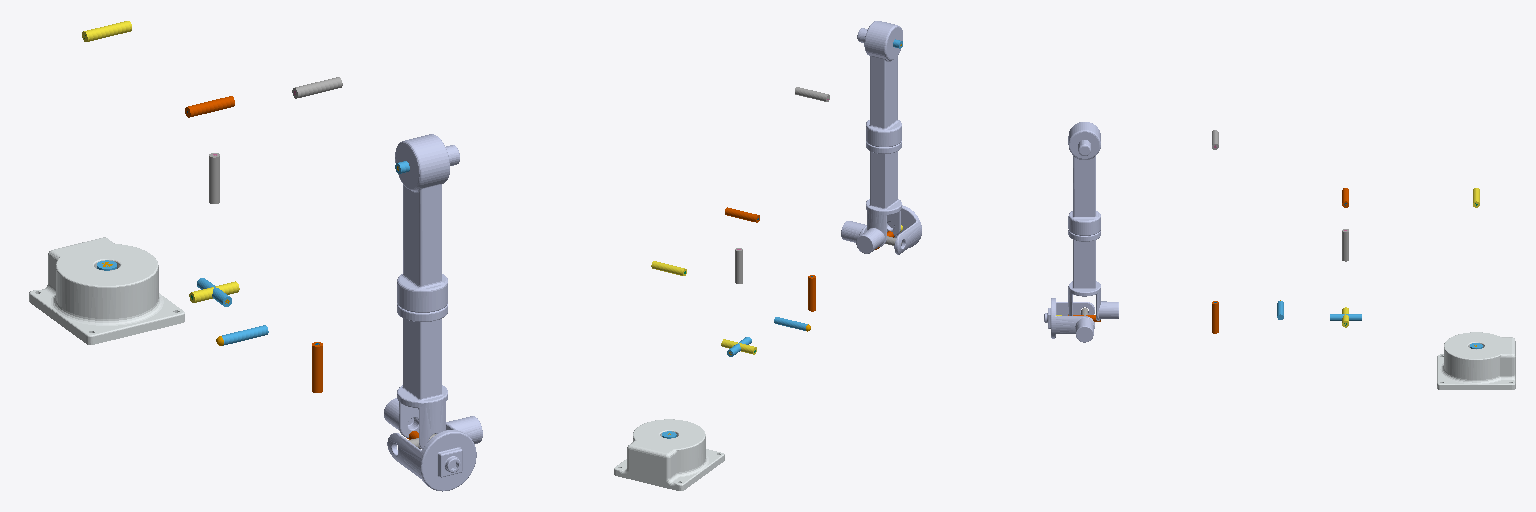
--- What the picture shows (computed from the rendered views, not written in the file) ---
3 views of the same robot in one strip: view 1: azimuth 30°, elevation 25°; view 2: azimuth 150°, elevation 25°; view 3: azimuth 270°, elevation 25° (orthographic).
Model twelvedof_new with 44 links and 43 joints (12 continuous, 31 fixed), rooted at world, posed every joint at zero.
Visible links, largest first — view 1: base_link, link9, link10, link12, motor2, motor3, motor8, motor4, motor7; view 2: base_link, link9, link10, link12; view 3: base_link, link9, link10, link12.
Boxes of the visible links, x1,y1,x2,y2 form: base_link: [29, 237, 184, 344]; link9: [395, 134, 459, 312]; link10: [384, 304, 447, 449]; link12: [387, 416, 482, 491]; motor2: [82, 21, 131, 41]; motor3: [185, 96, 234, 117]; motor8: [292, 77, 342, 98]; motor4: [209, 153, 219, 203]; motor7: [312, 342, 322, 392]; base_link: [614, 419, 724, 490]; link9: [857, 21, 902, 146]; link10: [856, 141, 901, 253]; link12: [841, 205, 921, 254]; base_link: [1437, 332, 1515, 389]; link9: [1068, 122, 1100, 235]; link10: [1068, 230, 1118, 320]; link12: [1044, 298, 1094, 342].
Size in the robot's own frame: 0.245 by 1.44 by 0.85 metres.
4 mesh visuals loaded from 13 distinct referenced files (4 binary STL); not drawn: 9 (reference not matched to a file when rendering).

The robot description file, URDF, robot "twelvedof_new":
<?xml version="1.0" encoding="utf-8"?>
<!-- This URDF was automatically created by SolidWorks to URDF Exporter! Originally created by Stephen Brawner ([email redacted]) 
     Commit Version: 1.6.0-1-g15f4949  Build Version: 1.6.7594.29634
     For more information, please see http://wiki.ros.org/sw_urdf_exporter -->
<robot name="twelvedof_new">
  
  <link name="world"/>
    
  <joint name="worldjoint" type="fixed">
    <origin xyz="0 0 0" rpy="0 0 1.5708" />
    <parent link="world" />
    <child link="base_link" />
  </joint>

<!-- FIRST HALF OF ARM -->
  
  <link name="base_link">
    <inertial>
      <origin xyz="0.0082132 0.045573 -4.3895E-09" rpy="0 0 0" />
      <mass value="10" />
      <inertia
        ixx="0.0143561878212777"
        ixy="-0.000435034350132057"
        ixz="1.30220493170942E-09"
        iyy="0.0253036434758205"
        iyz="2.05181848298011E-10"
        izz="0.017604652680288" />
    </inertial>
    <visual>
      <origin xyz="0 0 0" rpy="0 0 0" />
      <geometry>
        <mesh filename="package://project/meshes/base_link.STL" />
      </geometry>
      <material name="">
        <color rgba="0.898039215686275 0.92156862745098 0.929411764705882 1" />
      </material>
    </visual>
    <!--<collision>
      <origin xyz="0 0 0" rpy="0 0 0" />
      <geometry>
        <mesh filename="package://project/meshes/base_link.STL" />
      </geometry>
    </collision>-->
  </link>
  
  <joint name="theta1" type="continuous">
    <origin xyz="0 0 0.05" rpy="1.5707963267949 0 3.14159265358979" />
    <parent link="base_link" />
    <child link="link1" />
    <axis xyz="0 1 0" />
    <dynamics damping="5.0"/>
  </joint>  
  
  <link name="link1">
    <inertial>
      <origin xyz="-3.4183E-08 0.34451 0.010144" rpy="0 0 0" />
      <mass value="0.1" />
      <inertia
        ixx="0.280533282193697"
        ixy="2.88502865128486E-08"
        ixz="5.12746353903742E-09"
        iyy="0.0214809674041822"
        iyz="-0.0162186945928484"
        izz="0.281062502247758" />
    </inertial>
    <visual>
      <origin xyz="0 0 0" rpy="0 0 0" />
      <geometry>
        <mesh filename="package://project/meshes/link1.STL" />
      </geometry>
      <material name="">
        <color rgba="0.792156862745098 0.819607843137255 0.933333333333333 1" />
      </material>
    </visual>
    <!--<collision>
      <origin xyz="0 0 0" rpy="0 0 0" />
      <geometry>
        <mesh filename="package://project/meshes/link1.STL" />
      </geometry>
    </collision>-->
  </link>
  
  <joint name="theta2" type="continuous">
    <origin xyz="0 0.55 0" rpy="-3.14159265358979 -1.5707963267949 0" />
    <parent link="link1" />
    <child link="link2" />
    <axis xyz="1 0 0" />
    <dynamics damping="5.0"/>
  </joint>
  
  <link name="link2">
    <inertial>
      <origin xyz="-0.099044 -1.7117E-08 0.19438" rpy="0 0 0" />
      <mass value="0.1" />
      <inertia
        ixx="0.128935545829528"
        ixy="-3.59276704863955E-09"
        ixz="0.00824538218148109"
        iyy="0.12959303076696"
        iyz="3.7662632051646E-08"
        izz="0.00894193356578435" />
    </inertial>
    <visual>
      <origin xyz="0 0 0" rpy="0 0 0" />
      <geometry>
        <mesh filename="package://project/meshes/link2.STL" />
      </geometry>
      <material name="">
        <color rgba="0.792156862745098 0.819607843137255 0.933333333333333 1" />
      </material>
    </visual>
    <!--<collision>
      <origin xyz="0 0 0" rpy="0 0 0" />
      <geometry>
        <mesh filename="package://project/meshes/link2.STL" />
      </geometry>
    </collision>-->
  </link>
    
  <joint name="theta3" type="continuous">
    <origin xyz="0 0 0.4" rpy="0 0 3.14159265358979" />
    <parent link="link2" />
    <child link="link3" />
    <axis xyz="1 0 0" />
    <dynamics damping="1.0"/>
  </joint>
  
  
  <link name="link3">
    <inertial>
      <origin xyz="0.011754 -0.069273 -1.9906E-07" rpy="0 0 0" />
      <mass value="0.1" />
      <inertia
        ixx="0.0152262508313679"
        ixy="-0.000252854197484628"
        ixz="-7.59437820571953E-09"
        iyy="0.00238432715240219"
        iyz="-6.63655998102174E-09"
        izz="0.0150750345051429" />
    </inertial>
    <visual>
      <origin xyz="0 0 0" rpy="0 0 0" />
      <geometry>
        <mesh filename="package://project/meshes/link3.STL" />
      </geometry>
      <material name="">
        <color rgba="0.792156862745098 0.819607843137255 0.933333333333333 1" />
      </material>
    </visual>
    <!--<collision>
      <origin xyz="0 0 0" rpy="0 0 0" />
      <geometry>
        <mesh filename="package://project/meshes/link3.STL" />
      </geometry>
    </collision>-->
  </link>
  
  <joint name="theta4" type="continuous">
    <origin xyz="0.00999999999999997 -0.156 0" rpy="3.14159265358979 -3.14159265358979 3.14159265358979" />
    <parent link="link3" />
    <child link="link4" />
    <axis xyz="0 1 0" />
    <dynamics damping="0.2"/>
  </joint>
  
  <link name="link4">
    <inertial>
      <origin xyz="-2.423E-05 -0.13288 0.010643" rpy="0 3.14159265358979 0" />
      <mass value="0.1" />
      <inertia
        ixx="0.00652454443000916"
        ixy="-2.63113923987127E-06"
        ixz="1.4312330638641E-06"
        iyy="0.00162842387868455"
        iyz="0.00113452921322352"
        izz="0.00559173664508866" />
    </inertial>
    <visual>
      <origin xyz="0 0 0" rpy="0 3.14159265358979 0" />
      <geometry>
        <mesh filename="package://project/meshes/link4.STL" />
      </geometry>
      <material name="">
        <color rgba="0.792156862745098 0.819607843137255 0.933333333333333 1" />
      </material>
    </visual>
    <!--<collision>
      <origin xyz="0 0 0" rpy="0 3.14159265358979 0" />
      <geometry>
        <mesh filename="package://project/meshes/link4.STL" />
      </geometry>
    </collision>-->
  </link>
  
  <joint name="theta5" type="continuous">
    <origin xyz="-0.000158056929492672 -0.244 0" rpy="-1.5707963267949 0 3.14159265358979" />
    <parent link="link4" />
    <child link="link5" />
    <axis xyz="0 1 0" />
    <dynamics damping="0.2"/>
  </joint>
  
  <link name="link5">
    <inertial>
      <origin xyz="-8.5927E-06 2.9948E-09 0" rpy="0 0 0" />
      <mass value="0.1" />
      <inertia
        ixx="0.000268508912730322"
        ixy="-1.05404001827445E-14"
        ixz="2.8134907313249E-12"
        iyy="0.000445501225998283"
        iyz="-4.09234992736264E-12"
        izz="0.000491869576064115" />
    </inertial>
    <visual>
      <origin xyz="0 0 0" rpy="0 0 0" />
      <geometry>
        <mesh filename="package://project/meshes/link5.STL" />
      </geometry>
      <material name="">
        <color rgba="0.792156862745098 0.819607843137255 0.933333333333333 1" />
      </material>
    </visual>
    <!--<collision>
      <origin xyz="0 0 0" rpy="0 0 0" />
      <geometry>
        <mesh filename="package://project/meshes/link5.STL" />
      </geometry>
    </collision>-->
  </link>

  <joint name="theta6" type="continuous">
    <origin xyz="0 0 0" rpy="3.1416 -1.5708 0" />
    <parent link="link5" />
    <child link="link6" />
    <axis xyz="0 0 1" />
    <dynamics damping="0.2"/>
  </joint>

  <link name="link6">
    <inertial>
      <origin xyz="0.0051917 0.2733 -0.0049985" rpy="0 0 0" />
      <mass value="0.1" />
      <inertia
        ixx="0.0522030439082721"
        ixy="-0.00158209475866237"
        ixz="-6.38836647121218E-05"
        iyy="0.00450482103345596"
        iyz="-0.00340305922390723"
        izz="0.0501774844868825" />
    </inertial>
    <visual>
      <origin xyz="0 0 0" rpy="0 0 0" />
      <geometry>
        <mesh filename="package://project/meshes/link6.STL" />
      </geometry>
      <material name="">
        <color rgba="0.792156862745098 0.819607843137255 0.933333333333333 1" />
      </material>
    </visual>
    <!--<collision>
      <origin xyz="0 0 0" rpy="0 0 0" />
      <geometry>
        <mesh filename="package://project/meshes/link6.STL" />
      </geometry>
    </collision>-->
  </link>

  <joint name="final1" type="fixed">
    <parent link="link6"/>
    <child  link="tip_elbow"/>
    <origin xyz="0 0.2 0.1" rpy="1.5708 0 -1.5708"/>
  </joint>

  <link name="tip_elbow"/>
  
 
 <!-- SECOND HALF OF ARM -->

  <joint name="theta7" type="continuous">
    <origin xyz="0 0.4 0" rpy="1.5707963267949 -1.5707963267949 0" />
    <parent link="link6" />
    <child link="link7" />
    <axis xyz="0 1 0" />
    <dynamics damping="0.2"/>
  </joint>

  <link name="link7">
    <inertial>
      <origin xyz="0.0044934 0.36072 6.8848E-09" rpy="0 0 0" />
      <mass value="0.1" />
      <inertia
        ixx="0.120977117963601"
        ixy="-0.00358173551662174"
        ixz="-1.92392938248504E-09"
        iyy="0.00427523422420143"
        iyz="-2.98092198286552E-09"
        izz="0.120860768990603" />
    </inertial>
    <visual>
      <origin xyz="0 0 0" rpy="0 0 0" />
      <geometry>
        <mesh filename="package://project/meshes/link7.STL" />
      </geometry>
      <material name="">
        <color rgba="0.792156862745098 0.819607843137255 0.933333333333333 1" />
      </material>
    </visual>
    <!--<collision>
      <origin xyz="0 0 0" rpy="0 0 0" />
      <geometry>
        <mesh filename="package://project/meshes/link7.STL" />
      </geometry>
    </collision>-->
  </link>

  <joint name="theta8" type="continuous">
    <origin xyz="0 0.6 0" rpy="0 0 3.14159265358979" />
    <parent link="link7" />
    <child link="link8" />
    <axis xyz="1 0 0" />
    <dynamics damping="5.0"/>
  </joint>
  
  <link name="link8">
    <inertial>
      <origin xyz="0.087875 -1.7703E-08 -0.22474" rpy="0 0 0" />
      <mass value="0.1" />
      <inertia
        ixx="0.0796551330078775"
        ixy="5.6504092407821E-09"
        ixz="0.00748044758508915"
        iyy="0.0813191685089296"
        iyz="5.4244447681561E-09"
        izz="0.00490675543598511" />
    </inertial>
    <visual>
      <origin xyz="0 0 0" rpy="0 0 0" />
      <geometry>
        <mesh filename="package://project/meshes/link8.STL" />
      </geometry>
      <material name="">
        <color rgba="0.792156862745098 0.819607843137255 0.933333333333333 1" />
      </material>
    </visual>
    <!--<collision>
      <origin xyz="0 0 0" rpy="0 0 0" />
      <geometry>
        <mesh filename="package://project/meshes/link8.STL" />
      </geometry>
    </collision>-->
  </link>

  <joint name="theta9" type="continuous">
    <origin xyz="0 0 -0.4" rpy="-3.14159263868864 0 0" />
    <parent link="link8" />
    <child link="link9" />
    <axis xyz="1 0 0" />
    <dynamics damping="1.0"/>
  </joint>


  <link name="link9">
    <inertial>
      <origin xyz="0.0066483 -0.12042 -2.4888E-07" rpy="0 0 0" />
      <mass value="0.1" />
      <inertia
        ixx="0.0114050795265076"
        ixy="-0.0002365697800322"
        ixz="-3.38034585685076E-09"
        iyy="0.00148310827639032"
        iyz="-3.64333100183754E-09"
        izz="0.0113333864819022" />
    </inertial>
    <visual>
      <origin xyz="0 0 0" rpy="0 0 0" />
      <geometry>
        <mesh filename="package://project/meshes/link9.STL" />
      </geometry>
      <material name="">
        <color rgba="0.792156862745098 0.819607843137255 0.933333333333333 1" />
      </material>
    </visual>
    <!--<collision>
      <origin xyz="0 0 0" rpy="0 0 0" />
      <geometry>
        <mesh filename="package://project/meshes/link9.STL" />
      </geometry>
    </collision>-->
  </link>

  <joint name="theta10" type="continuous">
    <origin xyz="0.005 -0.26 0" rpy="3.14159265358979 0 3.14159265358979" />
    <parent link="link9" />
    <child link="link10" />
    <axis xyz="0 1 0" />
    <dynamics damping="0.2"/>
  </joint>

  <link name="link10">
    <inertial>
      <origin xyz="-2.3404E-05 -0.18747 0.0085476" rpy="0 0 0" />
      <mass value="0.1" />
      <inertia
        ixx="0.00624074124214675"
        ixy="-2.56275777992662E-06"
        ixz="1.42191262724024E-06"
        iyy="0.00153442214771151"
        iyz="0.00110450946529512"
        izz="0.00531178670708837" />
    </inertial>
    <visual>
      <origin xyz="0 0 0" rpy="0 0 0" />
      <geometry>
        <mesh filename="package://project/meshes/link10.STL" />
      </geometry>
      <material name="">
        <color rgba="0.792156862745098 0.819607843137255 0.933333333333333 1" />
      </material>
    </visual>
    <!--<collision>
      <origin xyz="0 0 0" rpy="0 0 0" />
      <geometry>
        <mesh filename="package://project/meshes/link10.STL" />
      </geometry>
    </collision>-->
  </link>

  <joint name="theta11" type="continuous">
    <origin xyz="-0.000158056929492617 -0.34 0" rpy="-1.5707963267949 0 3.14159265358979" />
    <parent link="link10" />
    <child link="link11" />
    <axis xyz="0 1 0" />
    <dynamics damping="0.2"/>
  </joint>

  <link name="link11">
    <inertial>
      <origin xyz="-2.0264E-05 9.9734E-09 -9.1441E-08" rpy="0 0 0" />
      <mass value="0.1" />
      <inertia
        ixx="0.000268508912730321"
        ixy="1.05404015773174E-14"
        ixz="-2.81349071030043E-12"
        iyy="0.000445501225998283"
        iyz="-4.09234984570201E-12"
        izz="0.000491869576064114" />
    </inertial>
    <visual>
      <origin xyz="0 0 0" rpy="0 0 0" />
      <geometry>
        <mesh filename="package://project/meshes/link11.STL" />
      </geometry>
      <material name="">
        <color rgba="0.792156862745098 0.819607843137255 0.933333333333333 1" />
      </material>
    </visual>
    <!--<collision>
      <origin xyz="0 0 0" rpy="0 0 0" />
      <geometry>
        <mesh filename="package://project/meshes/link11.STL" />
      </geometry>
    </collision>-->
  </link>

  <joint name="theta12" type="continuous">
    <origin xyz="0 0 0" rpy="0 1.5707963267949 0" />
    <parent link="link11" />
    <child link="link12" />
    <axis xyz="0 0 1" />
    <dynamics damping="0.2"/>
  </joint>

  <link name="link12">
    <inertial>
      <origin xyz="-2.9191E-07 0.031037 0.029216" rpy="0 0 0" />
      <mass value="0.1" />
      <inertia
        ixx="0.00449686744365017"
        ixy="-5.41238637157819E-09"
        ixz="3.66408930129254E-09"
        iyy="0.00184883163621398"
        iyz="0.00108407821056809"
        izz="0.00322066196867968" />
    </inertial>
    <visual>
      <origin xyz="0 0 0" rpy="0 0 0" />
      <geometry>
        <mesh filename="package://project/meshes/link12.STL" />
      </geometry>
      <material name="">
        <color rgba="0.792156862745098 0.819607843137255 0.933333333333333 1" />
      </material>
    </visual>
    <!--<collision>
      <origin xyz="0 0 0" rpy="0 0 0" />
      <geometry>
        <mesh filename="package://project/meshes/link12.STL" />
      </geometry>
    </collision>-->
  </link>

  <joint name="final2" type="fixed">
    <parent link="link12"/>
    <child  link="tip_full"/>
    <origin xyz="0 0.1 0" rpy="0 -1.5708 0"/>
  </joint>

  <link name="tip_full"/>













  <!-- *************************************************** -->
  <!-- ****** Building Blocks (Visual AND Inertial) ****** -->
  <!-- *************************************************** -->

  <!-- *** base_link-Fixed: Mount 1, Motor 1 *** -->

  <joint name="attach-mount1" type="fixed">
    <parent link="base_link"/>
    <child  link="mount1"/>
  </joint>
  <link name="mount1">
    <visual>
      <origin xyz="0 0 0.05" rpy="0 0 0"/>
      <geometry>
  <cylinder length="0.1" radius="0.011"/>
      </geometry>
      <material name="black"/>
    </visual>
    <collision>
      <origin xyz="0 0 0.05" rpy="0 0 0"/>
      <geometry>
  <cylinder length="0.1" radius="0.011"/>
      </geometry>
    </collision>
    <inertial>
      <origin xyz="0 0 0.05" rpy="0 0 0"/>
      <mass value="0.2"/>
      <inertia
        ixx="0.000687" ixy="0.0" ixz="0.0"
        iyy="0.000687" iyz="0.0"
        izz="1.000040"/>
    </inertial>
  </link>

  <joint name="attach-motor1" type="fixed">
    <parent link="base_link"/>
    <child  link="motor1"/>
  </joint>
  <link name="motor1">
    <visual>
      <origin xyz="0 0 0.05" rpy="0 0 0"/>
      <geometry>
  <cylinder length="0.1" radius="0.02"/>
      </geometry>
      <material name="gray"/>
    </visual>
    <collision>
      <origin xyz="0 0 0.05" rpy="0 0 0"/>
      <geometry>
  <cylinder length="0.1" radius="0.02"/>
      </geometry>
    </collision>
    <inertial>
      <origin xyz="0 0 0.05" rpy="0 0 0"/>
      <mass value="0.4"/>
      <inertia
        ixx="0.500990" ixy="0.0" ixz="0.0"
        iyy="0.000990" iyz="0.0"
        izz="0.000313"/>
    </inertial>
  </link>


  <!-- *** Motor 1 Output: Mount 2, Motor 2 *** -->

  <joint name="attach-mount2" type="fixed">
    <parent link="link1"/>
    <child  link="mount2"/>
  </joint>
  <link name="mount2">
    <visual>
      <origin xyz="0 0.55 0" rpy="0 0 -1.5708"/>
      <geometry>
  <cylinder length="0.1" radius="0.005"/>
      </geometry>
      <material name="black"/>
    </visual>
    <collision>
      <origin xyz="0 0.55 0" rpy="0 0 -1.5708"/>
      <geometry>
  <cylinder length="0.1" radius="0.005"/>
      </geometry>
    </collision>
    <inertial>
      <origin xyz="0 0.55 0" rpy="0 0 -1.5708"/>
      <mass value="0.2"/>
      <inertia
        ixx="0.000687" ixy="0.0" ixz="0.0"
        iyy="0.000687" iyz="0.0"
        izz="1.000040"/>
    </inertial>
  </link>

  <joint name="attach-motor2" type="fixed">
    <parent link="link1"/>
    <child  link="motor2"/>
  </joint>
  <link name="motor2">
    <visual>
      <origin xyz="0 0.55 0" rpy="0 0 -1.5708"/>
      <geometry>
  <cylinder length="0.1" radius="0.011"/>
      </geometry>
      <material name="gray"/>
    </visual>
    <collision>
      <origin xyz="0 0.55 0" rpy="0 0 -1.5708"/>
      <geometry>
  <cylinder length="0.1" radius="0.011"/>
      </geometry>
    </collision>
    <inertial>
      <origin xyz="0 0.55 0" rpy="0 0 -1.5708"/>
      <mass value="0.4"/>
      <inertia
        ixx="0.500990" ixy="0.0" ixz="0.0"
        iyy="0.000990" iyz="0.0"
        izz="0.000313"/>
    </inertial>
  </link>


  <!-- *** Motor 2 Output: Mount 3, Motor 3 *** -->

  <joint name="attach-mount3" type="fixed">
    <parent link="link2"/>
    <child  link="mount3"/>
  </joint>
  <link name="mount3">
    <visual>
      <origin xyz="0 0 0.4" rpy="0 -1.5708 0"/>
      <geometry>
  <cylinder length="0.1" radius="0.005"/>
      </geometry>
      <material name="black"/>
    </visual>
    <collision>
      <origin xyz="0 0 0.4" rpy="0 -1.5708 0"/>
      <geometry>
  <cylinder length="0.1" radius="0.005"/>
      </geometry>
    </collision>
    <inertial>
      <origin xyz="0 0 0.4" rpy="0 -1.5708 0"/>
      <mass value="0.2"/>
      <inertia
        ixx="0.000687" ixy="0.0" ixz="0.0"
        iyy="0.000687" iyz="0.0"
        izz="1.000040"/>
    </inertial>
  </link>

  <joint name="attach-motor3" type="fixed">
    <parent link="link2"/>
    <child  link="motor3"/>
  </joint>
  <link name="motor3">
    <visual>
      <origin xyz="0 0 0.4" rpy="0 -1.5708 0"/>
      <geometry>
  <cylinder length="0.1" radius="0.011"/>
      </geometry>
      <material name="gray"/>
    </visual>
    <collision>
      <origin xyz="0 0 0.4" rpy="0 -1.5708 0"/>
      <geometry>
  <cylinder length="0.1" radius="0.011"/>
      </geometry>
    </collision>
    <inertial>
      <origin xyz="0 0 0.4" rpy="0 -1.5708 0"/>
      <mass value="0.4"/>
      <inertia
        ixx="0.500990" ixy="0.0" ixz="0.0"
        iyy="0.000990" iyz="0.0"
        izz="0.000313"/>
    </inertial>
  </link>


  <!-- *** Motor 3 Output: Mount 4, Motor 4 *** -->

  <joint name="attach-mount4" type="fixed">
    <parent link="link3"/>
    <child  link="mount4"/>
  </joint>
  <link name="mount4">
    <visual>
      <origin xyz="0.00999999999999997 -0.156 0" rpy="-1.5708 0 0"/>
      <geometry>
  <cylinder length="0.1" radius="0.005"/>
      </geometry>
      <material name="black"/>
    </visual>
    <collision>
      <origin xyz="0.00999999999999997 -0.156 0" rpy="-1.5708 0 0"/>
      <geometry>
  <cylinder length="0.1" radius="0.005"/>
      </geometry>
    </collision>
    <inertial>
      <origin xyz="0.00999999999999997 -0.156 0" rpy="-1.5708 0 0"/>
      <mass value="0.2"/>
      <inertia
        ixx="0.000687" ixy="0.0" ixz="0.0"
        iyy="0.000687" iyz="0.0"
        izz="1.000040"/>
    </inertial>
  </link>

  <joint name="attach-motor4" type="fixed">
    <parent link="link3"/>
    <child  link="motor4"/>
  </joint>
  <link name="motor4">
    <visual>
      <origin xyz="0.00999999999999997 -0.156 0" rpy="-1.5708 0 0"/>
      <geometry>
  <cylinder length="0.1" radius="0.011"/>
      </geometry>
      <material name="gray"/>
    </visual>
    <collision>
      <origin xyz="0.00999999999999997 -0.156 0" rpy="-1.5708 0 0"/>
      <geometry>
  <cylinder length="0.1" radius="0.011"/>
      </geometry>
    </collision>
    <inertial>
      <origin xyz="0.00999999999999997 -0.156 0" rpy="-1.5708 0 0"/>
      <mass value="1.5"/>
      <inertia
        ixx="0.500990" ixy="0.0" ixz="0.0"
        iyy="0.000990" iyz="0.0"
        izz="0.000313"/>
    </inertial>
  </link>


  <!-- *** Motor 4 Output: Mount 5, Motor 5 *** -->

  <joint name="attach-mount5" type="fixed">
    <parent link="link4"/>
    <child  link="mount5"/>
  </joint>
  <link name="mount5">
    <visual>
      <origin xyz="-0.000158056929492672 -0.244 0" rpy="0 0 -1.5708"/>
      <geometry>
  <cylinder length="0.1" radius="0.005"/>
      </geometry>
      <material name="black"/>
    </visual>
    <collision>
      <origin xyz="-0.000158056929492672 -0.244 0" rpy="0 0 -1.5708"/>
      <geometry>
  <cylinder length="0.1" radius="0.005"/>
      </geometry>
    </collision>
    <inertial>
      <origin xyz="-0.000158056929492672 -0.244 0" rpy="0 0 -1.5708"/>
      <mass value="0.2"/>
      <inertia
        ixx="0.000687" ixy="0.0" ixz="0.0"
        iyy="0.000687" iyz="0.0"
        izz="1.000040"/>
    </inertial>
  </link>

  <joint name="attach-motor5" type="fixed">
    <parent link="link4"/>
    <child  link="motor5"/>
  </joint>
  <link name="motor5">
    <visual>
      <origin xyz="-0.000158056929492672 -0.244 0" rpy="0 0 -1.5708"/>
      <geometry>
  <cylinder length="0.1" radius="0.011"/>
      </geometry>
      <material name="gray"/>
    </visual>
    <collision>
      <origin xyz="-0.000158056929492672 -0.244 0" rpy="0 0 -1.5708"/>
      <geometry>
  <cylinder length="0.1" radius="0.011"/>
      </geometry>
    </collision>
    <inertial>
      <origin xyz="-0.000158056929492672 -0.244 0" rpy="0 0 -1.5708"/>
      <mass value="1.5"/>
      <inertia
        ixx="0.500990" ixy="0.0" ixz="0.0"
        iyy="0.000990" iyz="0.0"
        izz="0.000313"/>
    </inertial>
  </link>


  <!-- *** Motor 5 Output: Mount 6, Motor 6 *** -->

  <joint name="attach-mount6" type="fixed">
    <parent link="link5"/>
    <child  link="mount6"/>
  </joint>
  <link name="mount6">
    <visual>
      <origin xyz="0 0 0" rpy="3.1416 -1.5708 0"/>
      <geometry>
  <cylinder length="0.1" radius="0.005"/>
      </geometry>
      <material name="black"/>
    </visual>
    <collision>
      <origin xyz="0 0 0" rpy="3.1416 -1.5708 0"/>
      <geometry>
  <cylinder length="0.1" radius="0.005"/>
      </geometry>
    </collision>
    <inertial>
      <origin xyz="0 0 0" rpy="3.1416 -1.5708 0"/>
      <mass value="0.2"/>
      <inertia
        ixx="0.000687" ixy="0.0" ixz="0.0"
        iyy="0.000687" iyz="0.0"
        izz="1.000040"/>
    </inertial>
  </link>

  <joint name="attach-motor6" type="fixed">
    <parent link="link5"/>
    <child  link="motor6"/>
  </joint>
  <link name="motor6">
    <visual>
      <origin xyz="0 0 0" rpy="3.1416 -1.5708 0"/>
      <geometry>
  <cylinder length="0.1" radius="0.011"/>
      </geometry>
      <material name="gray"/>
    </visual>
    <collision>
      <origin xyz="0 0 0" rpy="3.1416 -1.5708 0"/>
      <geometry>
  <cylinder length="0.1" radius="0.011"/>
      </geometry>
    </collision>
    <inertial>
      <origin xyz="0 0 0" rpy="3.1416 -1.5708 0"/>
      <mass value="1.5"/>
      <inertia
        ixx="0.500990" ixy="0.0" ixz="0.0"
        iyy="0.000990" iyz="0.0"
        izz="0.000313"/>
    </inertial>
  </link>


  <!-- *** Motor 6 Output: Mount 7, Motor 7 *** -->

  <joint name="attach-mount7" type="fixed">
    <parent link="link6"/>
    <child  link="mount7"/>
  </joint>
  <link name="mount7">
    <visual>
      <origin xyz="0 0.4 0" rpy="0 1.5708 0"/>
      <geometry>
  <cylinder length="0.1" radius="0.005"/>
      </geometry>
      <material name="black"/>
    </visual>
    <collision>
      <origin xyz="0 0.4 0" rpy="0 1.5708 0"/>
      <geometry>
  <cylinder length="0.1" radius="0.005"/>
      </geometry>
    </collision>
    <inertial>
      <origin xyz="0 0.4 0" rpy="0 1.5708 0"/>
      <mass value="0.2"/>
      <inertia
        ixx="0.000687" ixy="0.0" ixz="0.0"
        iyy="0.000687" iyz="0.0"
        izz="1.000040"/>
    </inertial>
  </link>

  <joint name="attach-motor7" type="fixed">
    <parent link="link6"/>
    <child  link="motor7"/>
  </joint>
  <link name="motor7">
    <visual>
      <origin xyz="0 0.4 0" rpy="0 1.5708 0"/>
      <geometry>
  <cylinder length="0.1" radius="0.011"/>
      </geometry>
      <material name="gray"/>
    </visual>
    <collision>
      <origin xyz="0 0.4 0" rpy="0 1.5708 0"/>
      <geometry>
  <cylinder length="0.1" radius="0.011"/>
      </geometry>
    </collision>
    <inertial>
      <origin xyz="0 0.4 0" rpy="0 1.5708 0"/>
      <mass value="1.5"/>
      <inertia
        ixx="0.500990" ixy="0.0" ixz="0.0"
        iyy="0.000990" iyz="0.0"
        izz="0.000313"/>
    </inertial>
  </link>


  <!-- *** Motor 7 Output: Mount 8, Motor 8 *** -->

  <joint name="attach-mount8" type="fixed">
    <parent link="link7"/>
    <child  link="mount8"/>
  </joint>
  <link name="mount8">
    <visual>
      <origin xyz="0 0.6 0" rpy="0 1.5708 0"/>
      <geometry>
  <cylinder length="0.1" radius="0.005"/>
      </geometry>
      <material name="black"/>
    </visual>
    <collision>
      <origin xyz="0 0.6 0" rpy="0 1.5708 0"/>
      <geometry>
  <cylinder length="0.1" radius="0.005"/>
      </geometry>
    </collision>
    <inertial>
      <origin xyz="0 0.6 0" rpy="0 1.5708 0"/>
      <mass value="0.2"/>
      <inertia
        ixx="0.000687" ixy="0.0" ixz="0.0"
        iyy="0.000687" iyz="0.0"
        izz="1.000040"/>
    </inertial>
  </link>

  <joint name="attach-motor8" type="fixed">
    <parent link="link7"/>
    <child  link="motor8"/>
  </joint>
  <link name="motor8">
    <visual>
      <origin xyz="0 0.6 0" rpy="0 1.5708 0"/>
      <geometry>
  <cylinder length="0.1" radius="0.011"/>
      </geometry>
      <material name="gray"/>
    </visual>
    <collision>
      <origin xyz="0 0.6 0" rpy="0 1.5708 0"/>
      <geometry>
  <cylinder length="0.1" radius="0.011"/>
      </geometry>
    </collision>
    <inertial>
      <origin xyz="0 0.6 0" rpy="0 1.5708 0"/>
      <mass value="1.0"/>
      <inertia
        ixx="0.500990" ixy="0.0" ixz="0.0"
        iyy="0.000990" iyz="0.0"
        izz="0.000313"/>
    </inertial>
  </link>


  <!-- *** Motor 8 Output: Mount 9, Motor 9 *** -->

  <joint name="attach-mount9" type="fixed">
    <parent link="link8"/>
    <child  link="mount9"/>
  </joint>
  <link name="mount9">
    <visual>
      <origin xyz="0 0 -0.4" rpy="0 -1.5708 0"/>
      <geometry>
  <cylinder length="0.1" radius="0.005"/>
      </geometry>
      <material name="black"/>
    </visual>
    <collision>
      <origin xyz="0 0 -0.4" rpy="0 -1.5708 0"/>
      <geometry>
  <cylinder length="0.1" radius="0.005"/>
      </geometry>
    </collision>
    <inertial>
      <origin xyz="0 0 -0.4" rpy="0 -1.5708 0"/>
      <mass value="0.2"/>
      <inertia
        ixx="0.000687" ixy="0.0" ixz="0.0"
        iyy="0.000687" iyz="0.0"
        izz="1.000040"/>
    </inertial>
  </link>

  <joint name="attach-motor9" type="fixed">
    <parent link="link8"/>
    <child  link="motor9"/>
  </joint>
  <link name="motor9">
    <visual>
      <origin xyz="0 0 -0.4" rpy="0 -1.5708 0"/>
      <geometry>
  <cylinder length="0.1" radius="0.011"/>
      </geometry>
      <material name="gray"/>
    </visual>
    <collision>
      <origin xyz="0.005 0 -0.4" rpy="0 -1.5708 0"/>
      <geometry>
  <cylinder length="0.1" radius="0.011"/>
      </geometry>
    </collision>
    <inertial>
      <origin xyz="0 0 -0.4" rpy="0 -1.5708 0"/>
      <mass value="1.0"/>
      <inertia
        ixx="0.500990" ixy="0.0" ixz="0.0"
        iyy="0.000990" iyz="0.0"
        izz="0.000313"/>
    </inertial>
  </link>


  <!-- *** Motor 9 Output: Mount 10, Motor 10 *** -->

  <joint name="attach-mount10" type="fixed">
    <parent link="link9"/>
    <child  link="mount10"/>
  </joint>
  <link name="mount10">
    <visual>
      <origin xyz="0.005 -0.26 0" rpy="-1.5708 0 0"/>
      <geometry>
  <cylinder length="0.1" radius="0.005"/>
      </geometry>
      <material name="black"/>
    </visual>
    <collision>
      <origin xyz="0.005 -0.26 0" rpy="-1.5708 0 0"/>
      <geometry>
  <cylinder length="0.1" radius="0.005"/>
      </geometry>
    </collision>
    <inertial>
      <origin xyz="0.005 -0.26 0" rpy="-1.5708 0 0"/>
      <mass value="0.2"/>
      <inertia
        ixx="0.000687" ixy="0.0" ixz="0.0"
        iyy="0.000687" iyz="0.0"
        izz="1.000040"/>
    </inertial>
  </link>

  <joint name="attach-motor10" type="fixed">
    <parent link="link9"/>
    <child  link="motor10"/>
  </joint>
  <link name="motor10">
    <visual>
      <origin xyz="0.005 -0.26 0" rpy="-1.5708 0 0"/>
      <geometry>
  <cylinder length="0.1" radius="0.011"/>
      </geometry>
      <material name="gray"/>
    </visual>
    <collision>
      <origin xyz="0.005 -0.26 0" rpy="-1.5708 0 0"/>
      <geometry>
  <cylinder length="0.1" radius="0.011"/>
      </geometry>
    </collision>
    <inertial>
      <origin xyz="0.005 -0.26 0" rpy="-1.5708 0 0"/>
      <mass value="1.0"/>
      <inertia
        ixx="0.500990" ixy="0.0" ixz="0.0"
        iyy="0.000990" iyz="0.0"
        izz="0.000313"/>
    </inertial>
  </link>


  <!-- *** Motor 10 Output: Mount 11, Motor 11 *** -->

  <joint name="attach-mount11" type="fixed">
    <parent link="link10"/>
    <child  link="mount11"/>
  </joint>
  <link name="mount11">
    <visual>
      <origin xyz="0.000158056929492617 -0.34 0" rpy="0 0 -1.5708"/>
      <geometry>
  <cylinder length="0.1" radius="0.005"/>
      </geometry>
      <material name="black"/>
    </visual>
    <collision>
      <origin xyz="0.000158056929492617 -0.34 0" rpy="0 0 -1.5708"/>
      <geometry>
  <cylinder length="0.1" radius="0.005"/>
      </geometry>
    </collision>
    <inertial>
      <origin xyz="0.000158056929492617 -0.34 0" rpy="0 0 -1.5708"/>
      <mass value="0.2"/>
      <inertia
        ixx="0.000687" ixy="0.0" ixz="0.0"
        iyy="0.000687" iyz="0.0"
        izz="1.000040"/>
    </inertial>
  </link>

  <joint name="attach-motor11" type="fixed">
    <parent link="link10"/>
    <child  link="motor11"/>
  </joint>
  <link name="motor11">
    <visual>
      <origin xyz="0.000158056929492617 -0.34 0" rpy="0 0 -1.5708"/>
      <geometry>
  <cylinder length="0.1" radius="0.011"/>
      </geometry>
      <material name="gray"/>
    </visual>
    <collision>
      <origin xyz="0.000158056929492617 -0.34 0" rpy="0 0 -1.5708"/>
      <geometry>
  <cylinder length="0.1" radius="0.011"/>
      </geometry>
    </collision>
    <inertial>
      <origin xyz="0.000158056929492617 -0.34 0" rpy="0 0 -1.5708"/>
      <mass value="1.0"/>
      <inertia
        ixx="0.500990" ixy="0.0" ixz="0.0"
        iyy="0.000990" iyz="0.0"
        izz="0.000313"/>
    </inertial>
  </link>


  <!-- *** Motor 11 Output: Mount 12, Motor 12 *** -->

  <joint name="attach-mount12" type="fixed">
    <parent link="link11"/>
    <child  link="mount12"/>
  </joint>
  <link name="mount12">
    <visual>
      <origin xyz="0 0 0" rpy="3.1416 -1.5708 0"/>
      <geometry>
  <cylinder length="0.1" radius="0.005"/>
      </geometry>
      <material name="black"/>
    </visual>
    <collision>
      <origin xyz="0 0 0" rpy="3.1416 -1.5708 0"/>
      <geometry>
  <cylinder length="0.1" radius="0.005"/>
      </geometry>
    </collision>
    <inertial>
      <origin xyz="0 0 0" rpy="3.1416 -1.5708 0"/>
      <mass value="0.2"/>
      <inertia
        ixx="0.000687" ixy="0.0" ixz="0.0"
        iyy="0.000687" iyz="0.0"
        izz="1.000040"/>
    </inertial>
  </link>

  <joint name="attach-motor12" type="fixed">
    <parent link="link11"/>
    <child  link="motor12"/>
  </joint>
  <link name="motor12">
    <visual>
      <origin xyz="0 0 0" rpy="3.1416 -1.5708 0"/>
      <geometry>
  <cylinder length="0.1" radius="0.011"/>
      </geometry>
      <material name="gray"/>
    </visual>
    <collision>
      <origin xyz="0 0 0" rpy="3.1416 -1.5708 0"/>
      <geometry>
  <cylinder length="0.1" radius="0.011"/>
      </geometry>
    </collision>
    <inertial>
      <origin xyz="0 0 0" rpy="3.1416 -1.5708 0"/>
      <mass value="1.0"/>
      <inertia
        ixx="0.500990" ixy="0.0" ixz="0.0"
        iyy="0.000990" iyz="0.0"
        izz="0.000313"/>
    </inertial>
  </link>



  <!-- *** Motor 6 Output: Sphere1 *** -->

  <joint name="attach-sphere" type="fixed">
    <parent link="tip_elbow"/>
    <child  link="sphere"/>
  </joint>
  <link name="sphere">
    <visual>
      <origin xyz="0 0 0" rpy="0 0 0"/>
      <geometry>
	      <sphere radius="0.01"/>
      </geometry>
      <material name="green"/>
    </visual>
    <collision>
      <origin xyz="0 -0.05 0" rpy="0 0 0"/>
      <geometry>
	      <sphere radius="0.01"/>
      </geometry>
      <material name="green"/>
    </collision>
    <inertial>
      <origin xyz="0 0 0" rpy="0 0 0"/>
      <mass value="0.01"/>
      <inertia
        ixx="0.01" ixy="0.0" ixz="0.0"
        iyy="0.01" iyz="0.0"
        izz="0.01"/>
    </inertial>
  </link>

  <joint name="attach-cylinder" type="fixed">
    <parent link="tip_elbow"/>
    <child  link="cylinder"/>
  </joint>
  <link name="cylinder">
    <visual>
      <origin xyz="0 -0.05 0" rpy="1.5708 0 0"/>
      <geometry>
	      <cylinder length="0.1" radius="0.01"/>
      </geometry>
      <material name="gray"/>
    </visual>
    <collision>
      <origin xyz="0 -0.1 0" rpy="1.5708 0 0"/>
      <geometry>
	      <cylinder length="0.1" radius="0.01"/>
      </geometry>
    </collision>
    <inertial>
      <origin xyz="0 -0.1 0" rpy="1.5708 0 0"/>
      <mass value="0.01"/>
      <inertia
        ixx="0.500990" ixy="0.0" ixz="0.0"
        iyy="0.000990" iyz="0.0"
        izz="0.000313"/>
    </inertial>
  </link>

  <!-- *** Motor 12 Output: Sphere2 *** -->

  <joint name="attach-sphere2" type="fixed">
    <parent link="tip_full"/>
    <child  link="sphere2"/>
  </joint>
  <link name="sphere2">
    <visual>
      <origin xyz="0 0 0" rpy="0 0 0"/>
      <geometry>
	      <sphere radius="0.01"/>
      </geometry>
      <material name="green"/>
    </visual>
    <collision>
      <origin xyz="0 -0.05 0" rpy="0 0 0"/>
      <geometry>
	      <sphere radius="0.01"/>
      </geometry>
      <material name="green"/>
    </collision>
    <inertial>
      <origin xyz="0 0 0" rpy="0 0 0"/>
      <mass value="0.01"/>
      <inertia
        ixx="0.01" ixy="0.0" ixz="0.0"
        iyy="0.01" iyz="0.0"
        izz="0.01"/>
    </inertial>
  </link>

  <joint name="attach-cylinder2" type="fixed">
    <parent link="tip_full"/>
    <child  link="cylinder2"/>
  </joint>
  <link name="cylinder2">
    <visual>
      <origin xyz="0 -0.015 0" rpy="1.5708 0 0"/>
      <geometry>
	      <cylinder length="0.03" radius="0.01"/>
      </geometry>
      <material name="gray"/>
    </visual>
    <collision>
      <origin xyz="0 -0.015 0" rpy="1.5708 0 0"/>
      <geometry>
	      <cylinder length="0.03" radius="0.01"/>
      </geometry>
    </collision>
    <inertial>
      <origin xyz="0 -0.015 0" rpy="1.5708 0 0"/>
      <mass value="0.1"/>
      <inertia
        ixx="0.500990" ixy="0.0" ixz="0.0"
        iyy="0.000990" iyz="0.0"
        izz="0.000313"/>
    </inertial>
  </link>



  <!-- *************************************************** -->
  <!-- ******************* Gazebo Colors ***************** -->
  <!-- *************************************************** -->
  <gazebo reference="base_link"> <material>Gazebo/Gray</material>  </gazebo>
  <gazebo reference="link1"> <material>Gazebo/Grass</material>  </gazebo>
  <gazebo reference="link2"> <material>Gazebo/Grass</material>  </gazebo>
  <gazebo reference="link3"> <material>Gazebo/Grass</material>  </gazebo>
  <gazebo reference="link4"> <material>Gazebo/Grass</material>  </gazebo>
  <gazebo reference="link5"> <material>Gazebo/Grass</material>  </gazebo>
  <gazebo reference="link6"> <material>Gazebo/Grass</material>  </gazebo>
  <gazebo reference="link7"> <material>Gazebo/Grass</material>  </gazebo>
  <gazebo reference="link8"> <material>Gazebo/Grass</material>  </gazebo>
  <gazebo reference="link9"> <material>Gazebo/Grass</material>  </gazebo>
  <gazebo reference="link10"> <material>Gazebo/Grass</material>  </gazebo>
  <gazebo reference="link11"> <material>Gazebo/Grass</material>  </gazebo>
  <gazebo reference="link12"> <material>Gazebo/Grass</material>  </gazebo>

  <gazebo reference="motor1"> <material>Gazebo/Gray</material>  </gazebo>
  <gazebo reference="motor2"> <material>Gazebo/Gray</material>  </gazebo>
  <gazebo reference="motor3"> <material>Gazebo/Gray</material>  </gazebo>
  <gazebo reference="motor4"> <material>Gazebo/Gray</material>  </gazebo>
  <gazebo reference="motor5"> <material>Gazebo/Gray</material>  </gazebo>
  <gazebo reference="motor6"> <material>Gazebo/Gray</material>  </gazebo>
  <gazebo reference="motor7"> <material>Gazebo/Gray</material>  </gazebo>
  <gazebo reference="motor8"> <material>Gazebo/Gray</material>  </gazebo>
  <gazebo reference="motor9"> <material>Gazebo/Gray</material>  </gazebo>
  <gazebo reference="motor10"> <material>Gazebo/Gray</material>  </gazebo>
  <gazebo reference="motor11"> <material>Gazebo/Gray</material>  </gazebo>
  <gazebo reference="motor12"> <material>Gazebo/Gray</material>  </gazebo>

  <gazebo reference="mount1">   <material>Gazebo/Black</material> </gazebo>
  <gazebo reference="mount2">   <material>Gazebo/Black</material> </gazebo>
  <gazebo reference="mount3">   <material>Gazebo/Black</material> </gazebo>
  <gazebo reference="mount4">   <material>Gazebo/Black</material> </gazebo>
  <gazebo reference="mount5">   <material>Gazebo/Black</material> </gazebo>
  <gazebo reference="mount6">   <material>Gazebo/Black</material> </gazebo>
  <gazebo reference="mount7">   <material>Gazebo/Black</material> </gazebo>
  <gazebo reference="mount8">   <material>Gazebo/Black</material> </gazebo>
  <gazebo reference="mount9">   <material>Gazebo/Black</material> </gazebo>
  <gazebo reference="mount10">   <material>Gazebo/Black</material> </gazebo>
  <gazebo reference="mount11">   <material>Gazebo/Black</material> </gazebo>
  <gazebo reference="mount12">   <material>Gazebo/Black</material> </gazebo>

  <gazebo reference="sphere">  <material>Gazebo/Green</material>  </gazebo>
  <gazebo reference="sphere2">  <material>Gazebo/Green</material>  </gazebo>  
 



  <!-- *************************************************** -->
  <!-- ************** Gazebo Transmissions *************** -->
  <!-- *************************************************** -->

  <transmission name="trans1">
    <type>transmission_interface/SimpleTransmission</type>
    <joint name="theta1">
      <hardwareInterface>hardware_interface/EffortJointInterface</hardwareInterface>
    </joint>
    <actuator name="motor1">
      <mechanicalReduction>1</mechanicalReduction>
      <hardwareInterface>hardware_interface/EffortJointInterface</hardwareInterface>
    </actuator>
  </transmission>
  
  <transmission name="trans2">
    <type>transmission_interface/SimpleTransmission</type>
    <joint name="theta2">
      <hardwareInterface>hardware_interface/EffortJointInterface</hardwareInterface>
    </joint>
    <actuator name="motor2">
      <mechanicalReduction>1</mechanicalReduction>
      <hardwareInterface>hardware_interface/EffortJointInterface</hardwareInterface>
    </actuator>
  </transmission>
  
  <transmission name="trans3">
    <type>transmission_interface/SimpleTransmission</type>
    <joint name="theta3">
      <hardwareInterface>hardware_interface/EffortJointInterface</hardwareInterface>
    </joint>
    <actuator name="motor3">
      <mechanicalReduction>1</mechanicalReduction>
      <hardwareInterface>hardware_interface/EffortJointInterface</hardwareInterface>
    </actuator>
  </transmission>
  
  <transmission name="trans4">
    <type>transmission_interface/SimpleTransmission</type>
    <joint name="theta4">
      <hardwareInterface>hardware_interface/EffortJointInterface</hardwareInterface>
    </joint>
    <actuator name="motor4">
      <mechanicalReduction>1</mechanicalReduction>
      <hardwareInterface>hardware_interface/EffortJointInterface</hardwareInterface>
    </actuator>
  </transmission>
  
  <transmission name="trans5">
    <type>transmission_interface/SimpleTransmission</type>
    <joint name="theta5">
      <hardwareInterface>hardware_interface/EffortJointInterface</hardwareInterface>
    </joint>
    <actuator name="motor5">
      <mechanicalReduction>1</mechanicalReduction>
      <hardwareInterface>hardware_interface/EffortJointInterface</hardwareInterface>
    </actuator>
  </transmission>
  
  <transmission name="trans6">
    <type>transmission_interface/SimpleTransmission</type>
    <joint name="theta6">
      <hardwareInterface>hardware_interface/EffortJointInterface</hardwareInterface>
    </joint>
    <actuator name="motor6">
      <mechanicalReduction>1</mechanicalReduction>
      <hardwareInterface>hardware_interface/EffortJointInterface</hardwareInterface>
    </actuator>
  </transmission>
  
  <transmission name="trans7">
    <type>transmission_interface/SimpleTransmission</type>
    <joint name="theta7">
      <hardwareInterface>hardware_interface/EffortJointInterface</hardwareInterface>
    </joint>
    <actuator name="motor7">
      <mechanicalReduction>1</mechanicalReduction>
      <hardwareInterface>hardware_interface/EffortJointInterface</hardwareInterface>
    </actuator>
  </transmission>

  <transmission name="trans8">
    <type>transmission_interface/SimpleTransmission</type>
    <joint name="theta8">
      <hardwareInterface>hardware_interface/EffortJointInterface</hardwareInterface>
    </joint>
    <actuator name="motor8">
      <mechanicalReduction>1</mechanicalReduction>
      <hardwareInterface>hardware_interface/EffortJointInterface</hardwareInterface>
    </actuator>
  </transmission>

  <transmission name="trans9">
    <type>transmission_interface/SimpleTransmission</type>
    <joint name="theta9">
      <hardwareInterface>hardware_interface/EffortJointInterface</hardwareInterface>
    </joint>
    <actuator name="motor9">
      <mechanicalReduction>1</mechanicalReduction>
      <hardwareInterface>hardware_interface/EffortJointInterface</hardwareInterface>
    </actuator>
  </transmission>

  <transmission name="trans10">
    <type>transmission_interface/SimpleTransmission</type>
    <joint name="theta10">
      <hardwareInterface>hardware_interface/EffortJointInterface</hardwareInterface>
    </joint>
    <actuator name="motor10">
      <mechanicalReduction>1</mechanicalReduction>
      <hardwareInterface>hardware_interface/EffortJointInterface</hardwareInterface>
    </actuator>
  </transmission>

  <transmission name="trans11">
    <type>transmission_interface/SimpleTransmission</type>
    <joint name="theta11">
      <hardwareInterface>hardware_interface/EffortJointInterface</hardwareInterface>
    </joint>
    <actuator name="motor11">
      <mechanicalReduction>1</mechanicalReduction>
      <hardwareInterface>hardware_interface/EffortJointInterface</hardwareInterface>
    </actuator>
  </transmission>

  <transmission name="trans12">
    <type>transmission_interface/SimpleTransmission</type>
    <joint name="theta12">
      <hardwareInterface>hardware_interface/EffortJointInterface</hardwareInterface>
    </joint>
    <actuator name="motor12">
      <mechanicalReduction>1</mechanicalReduction>
      <hardwareInterface>hardware_interface/EffortJointInterface</hardwareInterface>
    </actuator>
  </transmission>

  
  <!-- *************************************************** -->
  <!-- *************** Gazebo Controllers **************** -->
  <!-- *************************************************** -->

  <gazebo>
    <plugin name="gazebo_ros_control" filename="libgazebo_ros_control.so">
      <robotNamespace>/twelvedof</robotNamespace>
      <robotSimType>gazebo_ros_control/DefaultRobotHWSim</robotSimType>
    </plugin>
  </gazebo>



</robot>
